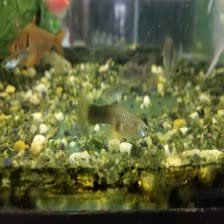Guppy: (63, 98, 172, 146)
Transparente: (6, 23, 72, 67)
